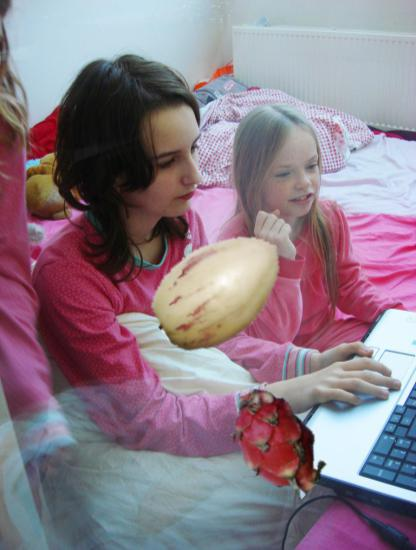Pepino: (148, 218, 292, 362)
Pitahaya: (215, 390, 329, 504)
